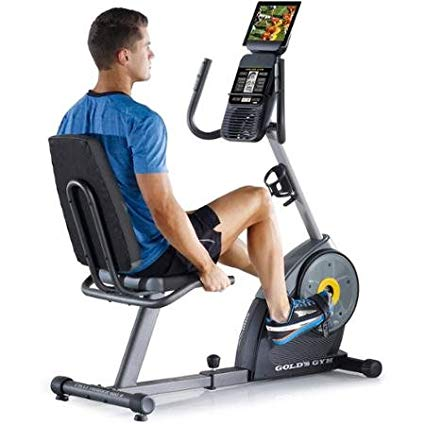gym_bike: (40, 113, 375, 403)
